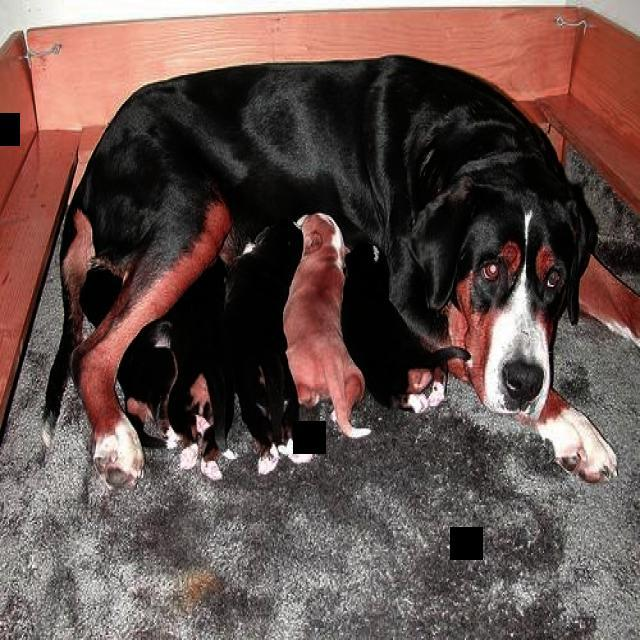adult_dog: (57, 52, 619, 494)
puppy-dog: (120, 242, 239, 481), (202, 221, 312, 477), (342, 247, 468, 413), (284, 215, 372, 436), (37, 259, 125, 459)
